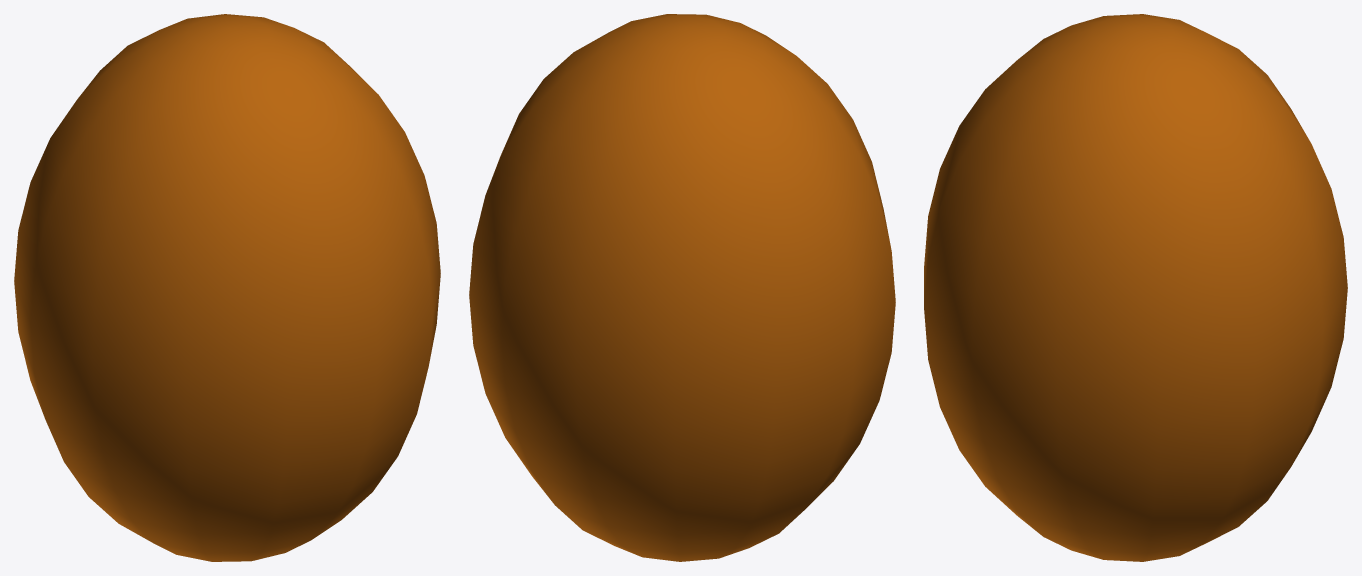
File: seed.glb
3 views of the same model, side by side, from view 1: azimuth 30°, elevation 25°; view 2: azimuth 150°, elevation 25°; view 3: azimuth 270°, elevation 25° (orthographic).
Parts seen in each view (by area): view 1: Sphere; view 2: Sphere; view 3: Sphere.
Part boxes in pixels (x1,y1,x2,y2): Sphere: (14,14,440,561); Sphere: (469,14,895,561); Sphere: (924,14,1347,561).
Bounding box in the file's own units: 1.62 × 2.18 × 1.61.
